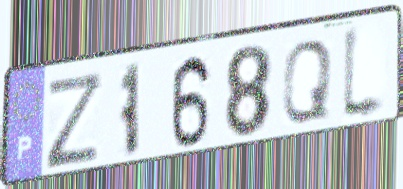1: (118, 59, 144, 162)
6: (169, 51, 214, 149)
8: (222, 41, 275, 141)
L: (339, 20, 389, 126)
Q: (279, 36, 335, 125)
Z: (45, 68, 106, 172)
